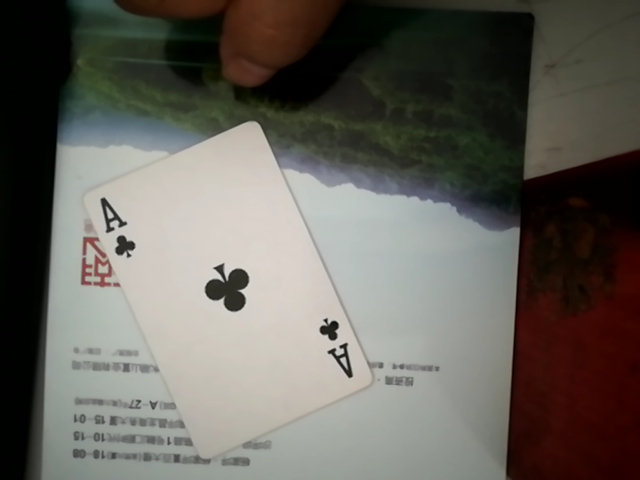mh a: (65, 116, 376, 441)
